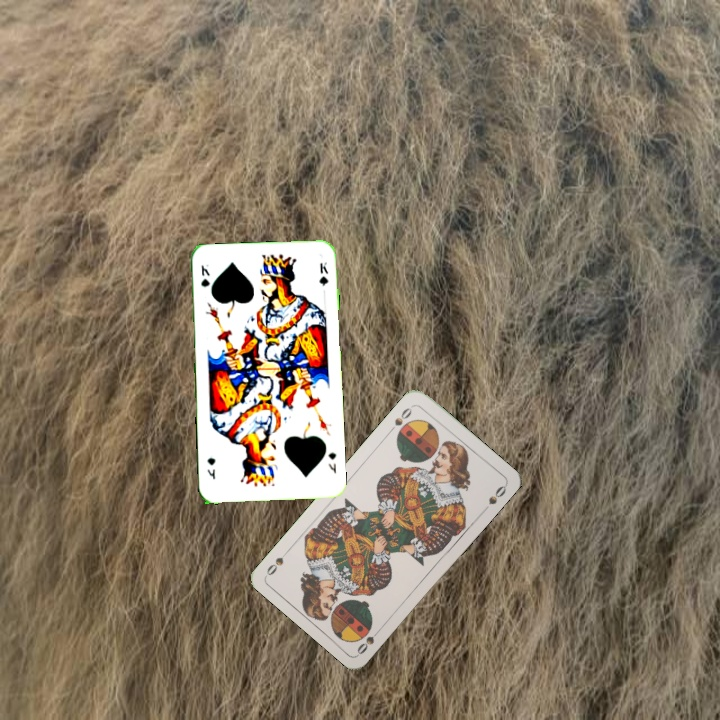GK: (197, 260, 212, 289), (324, 448, 339, 476)
SO: (353, 623, 384, 657), (385, 403, 415, 435)
